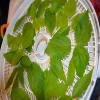Raspberry leaf: (44, 36, 72, 59), (74, 9, 91, 45), (72, 44, 90, 78)
